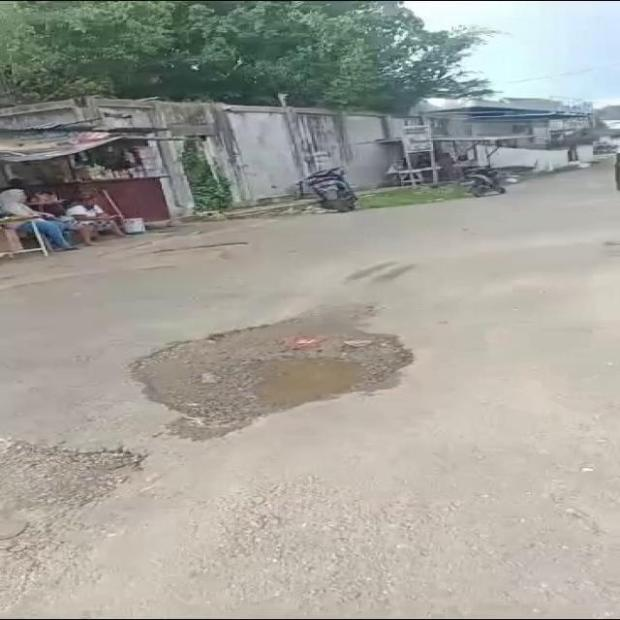lubang: (132, 306, 412, 439), (0, 439, 143, 540)
